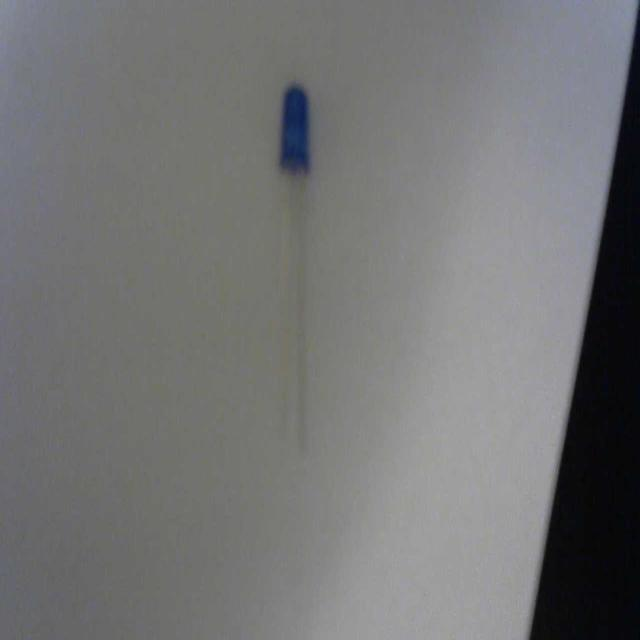blue_led: (279, 85, 310, 175)
